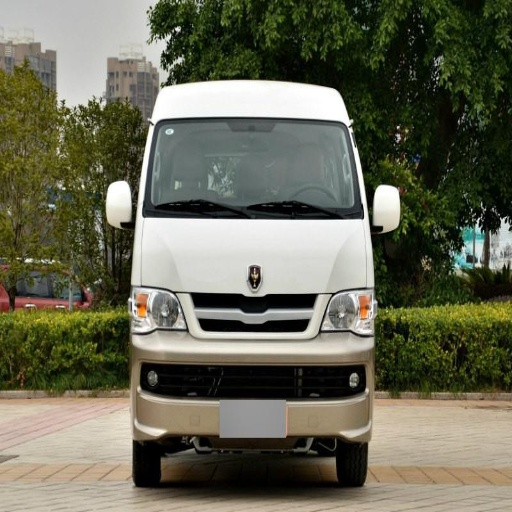front_bumper: (131, 291, 374, 450)
front_right_light: (129, 285, 185, 331)
hood: (141, 220, 366, 296)
left_mirror: (371, 185, 402, 234)
